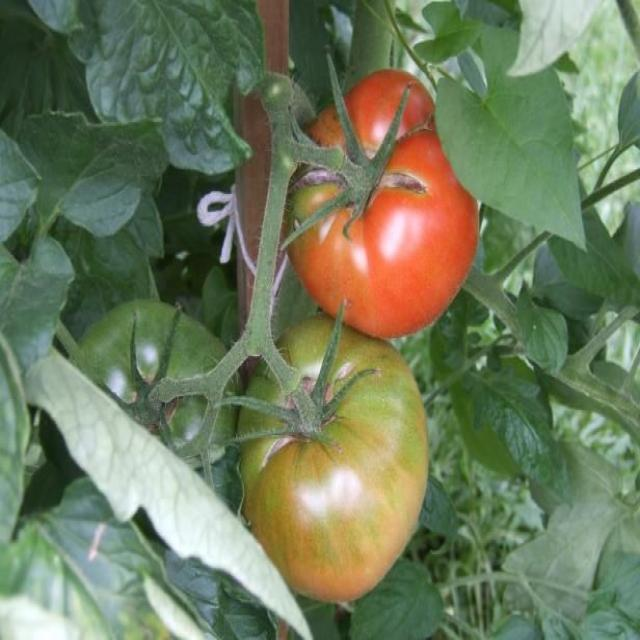level 1: (62, 299, 245, 533)
level 3: (236, 326, 432, 604)
level 6: (279, 66, 481, 340)
